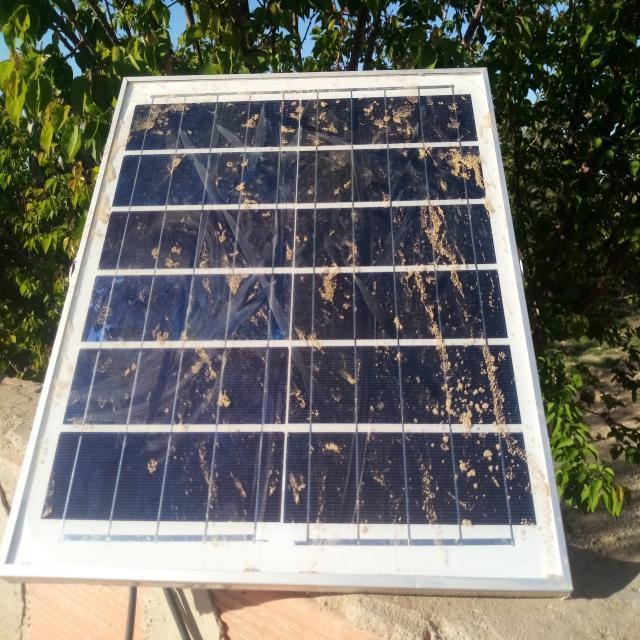Anomaly Solar Panel: (30, 87, 546, 543)
Surface Contaminant: (56, 93, 535, 526)
